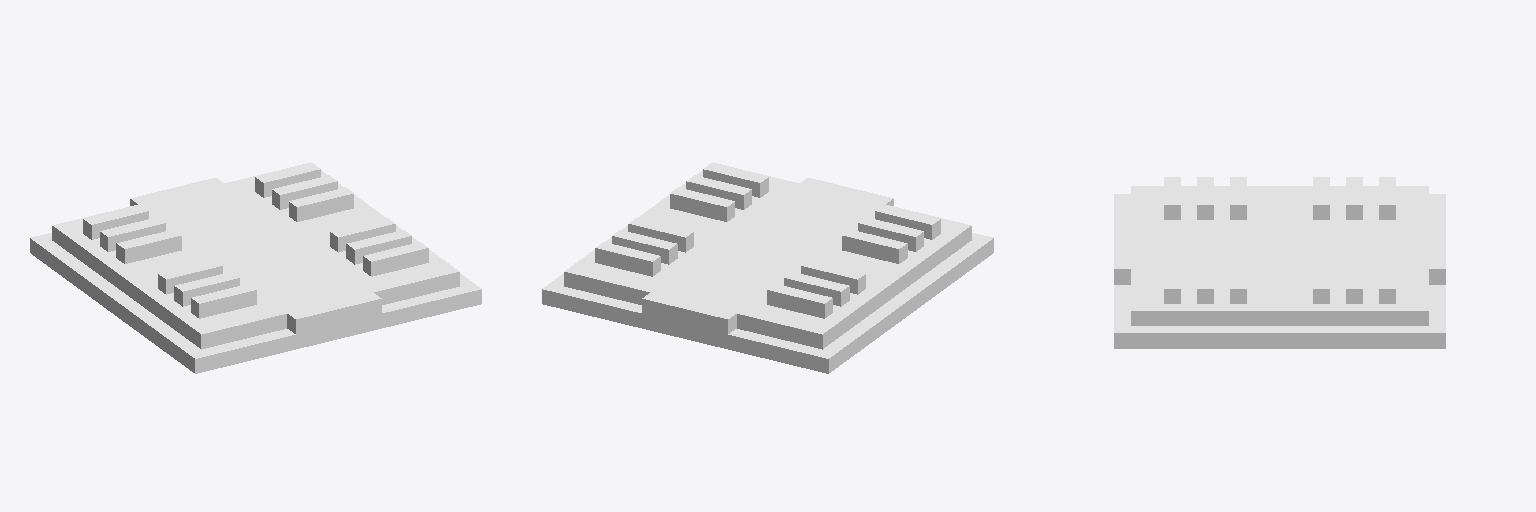
Rendered from straightfarm.obj.
The picture shows the model from 3 angles: view 1: azimuth 30°, elevation 25°; view 2: azimuth 150°, elevation 25°; view 3: azimuth 270°, elevation 25°; orthographic projection.
Size of the model in its own units: 20 by 3 by 20.